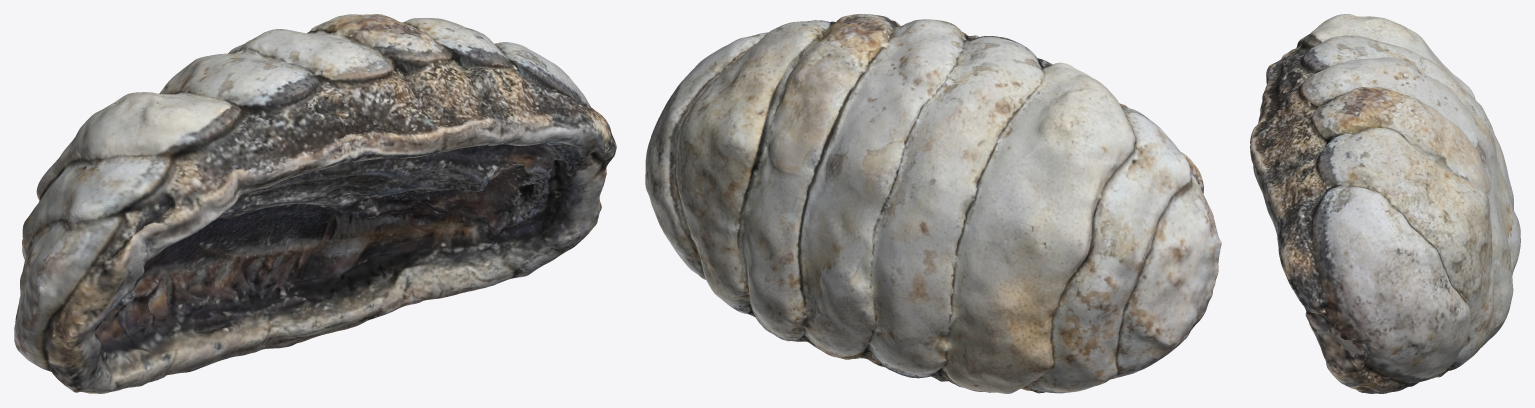
File: MZUR3D-068.glb
The picture shows the model from 3 angles, left to right: view 1: azimuth 30°, elevation 25°; view 2: azimuth 150°, elevation 25°; view 3: azimuth 270°, elevation 25°; orthographic projection. The views are drawn at different scales.
Parts seen in each view (by area): view 1: MZUR3D-068; view 2: MZUR3D-068; view 3: MZUR3D-068.
Part boxes in pixels (x1=…): MZUR3D-068: x1=14, y1=14, x2=616, y2=393; MZUR3D-068: x1=645, y1=14, x2=1221, y2=393; MZUR3D-068: x1=1250, y1=14, x2=1520, y2=393.
Size of the model in its own units: 0.5278 by 0.2849 by 0.255.
Materials: 1 (1 with a texture image).
